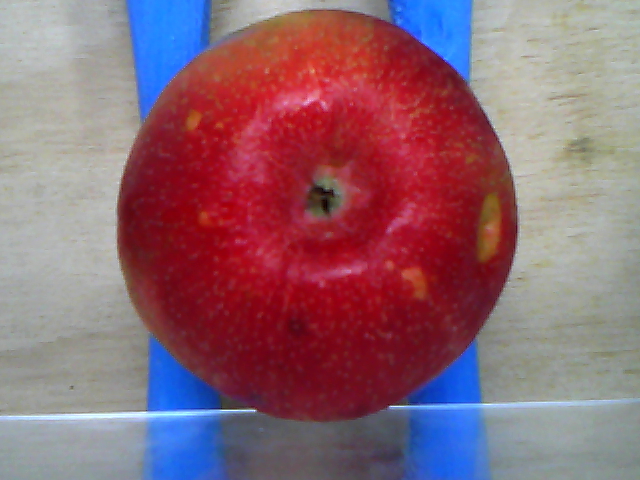puncture: (477, 193, 504, 260)
